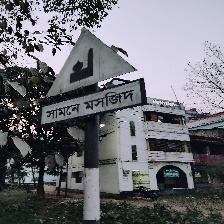Mosque in front: (41, 28, 142, 128)
